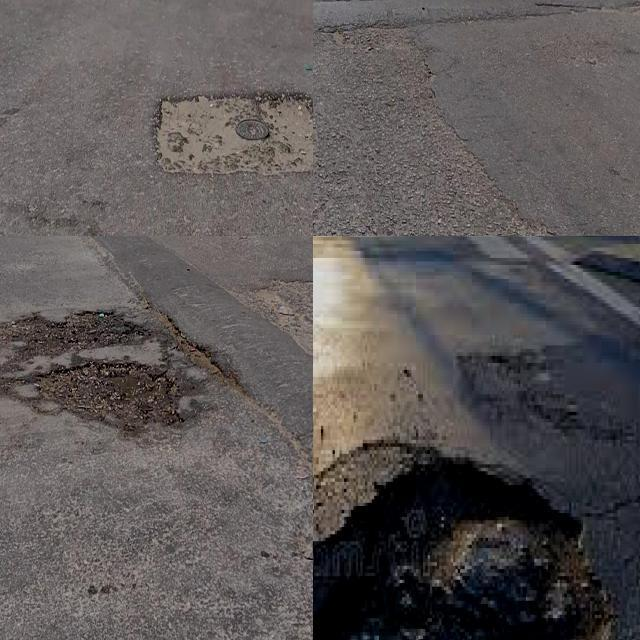Pothole: (313, 440, 615, 640), (157, 90, 313, 177), (34, 360, 185, 438), (2, 308, 153, 362)
